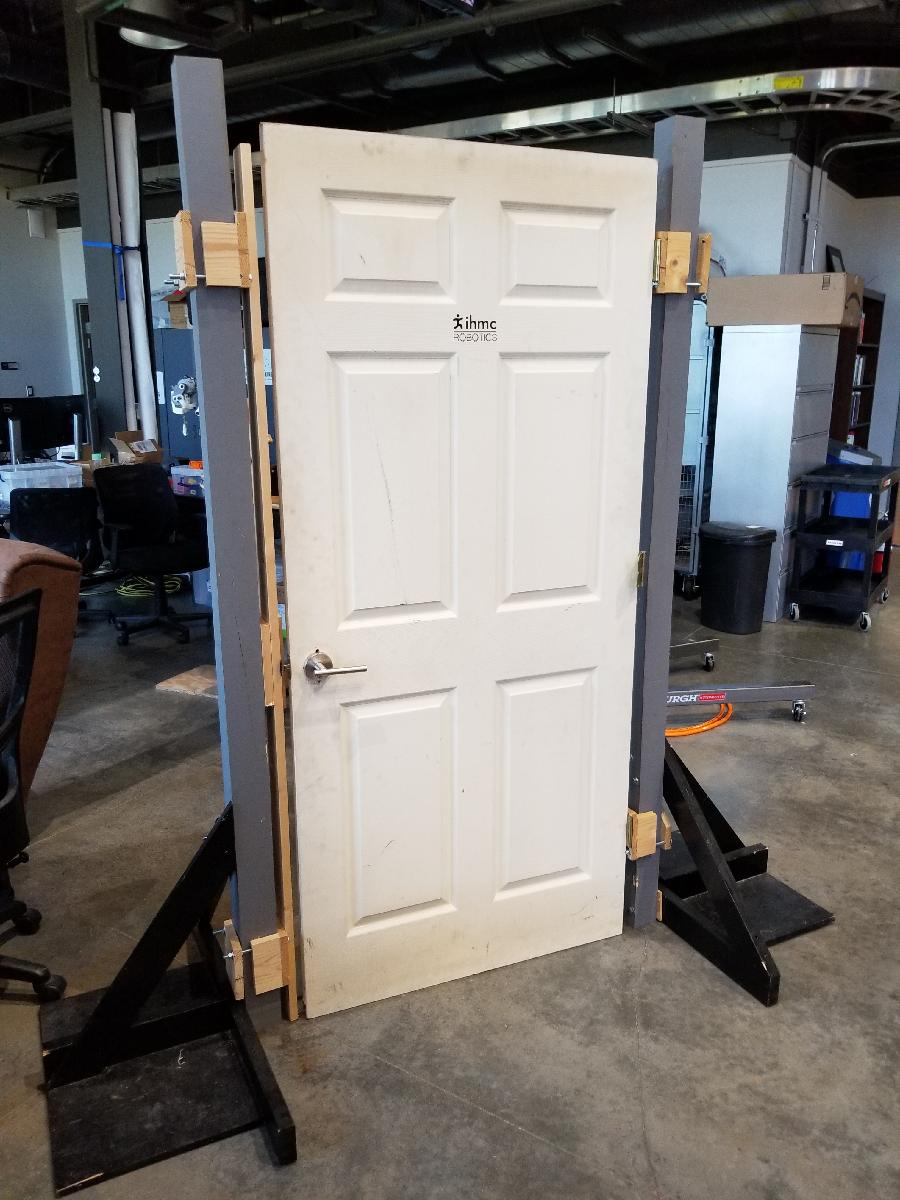door: (255, 115, 663, 1040)
doorHandle: (300, 649, 385, 692)
